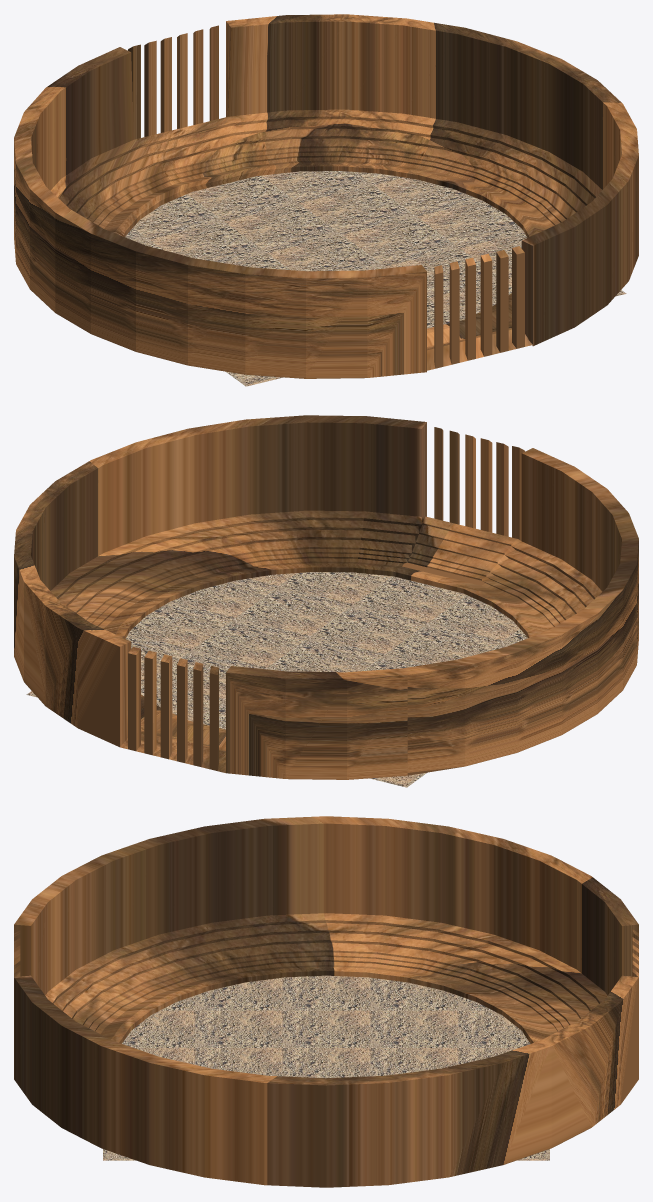
The model's file is Stage_2.fbx.
3 renders of one model, top to bottom at view 1: azimuth 30°, elevation 25°; view 2: azimuth 150°, elevation 25°; view 3: azimuth 270°, elevation 25°, orthographic.
Visible parts, largest first — view 1: wall, Stage; view 2: wall, Stage; view 3: wall, Stage.
Boxes of the visible parts, bbox=[...] form: wall: bbox=[14, 14, 638, 378]; Stage: bbox=[125, 171, 626, 386]; wall: bbox=[14, 415, 638, 779]; Stage: bbox=[26, 572, 527, 787]; wall: bbox=[14, 816, 638, 1187]; Stage: bbox=[103, 975, 549, 1160].
Bounding box in the file's own units: 8552 × 1714 × 8388.
2 materials, 2 textured.
